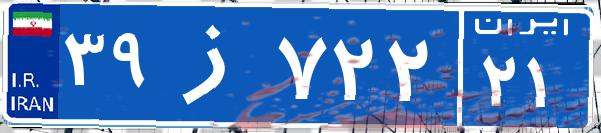1: (525, 38, 570, 115)
2: (385, 28, 445, 110), (330, 28, 385, 110), (475, 38, 525, 113)
3: (57, 26, 110, 107)
7: (273, 28, 330, 110)
9: (110, 28, 158, 105)
ز: (158, 15, 273, 115)
